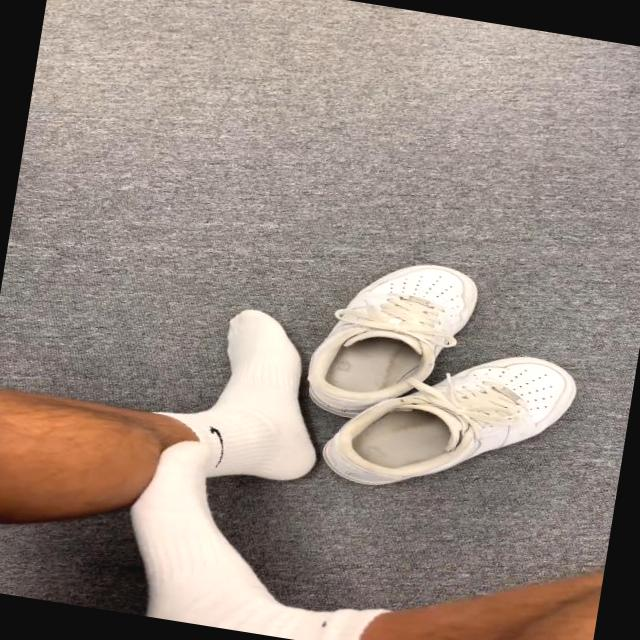nike_original_airforce: (311, 324, 586, 520), (298, 244, 492, 440)
